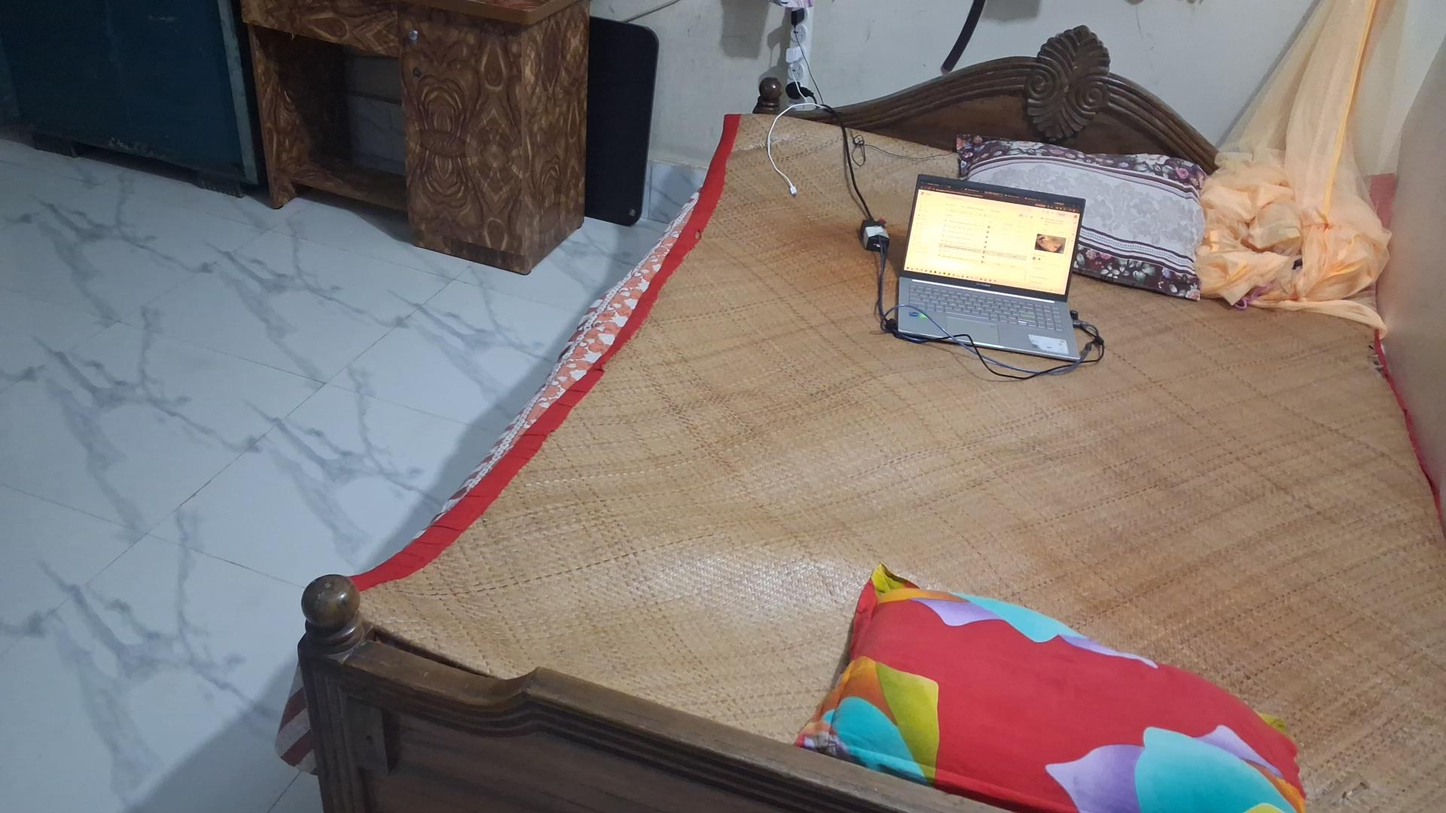Laptop: (896, 173, 1086, 361)
Pillow: (825, 549, 1312, 813), (943, 123, 1218, 308)
